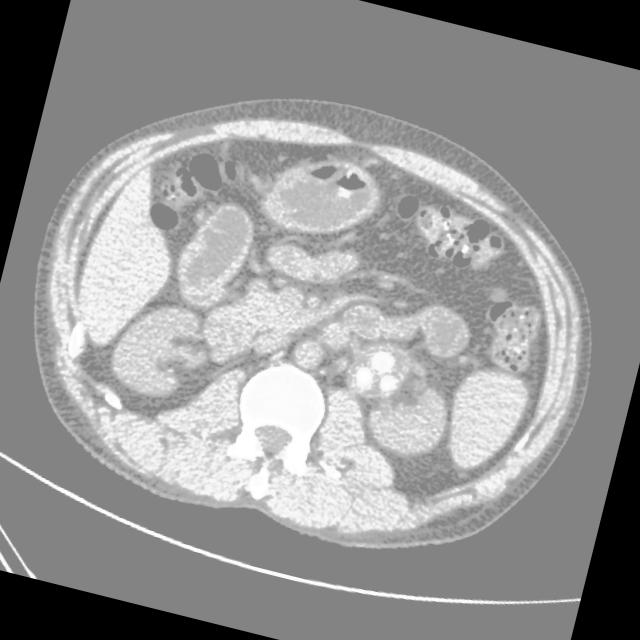STONE: (86, 75, 601, 463)
